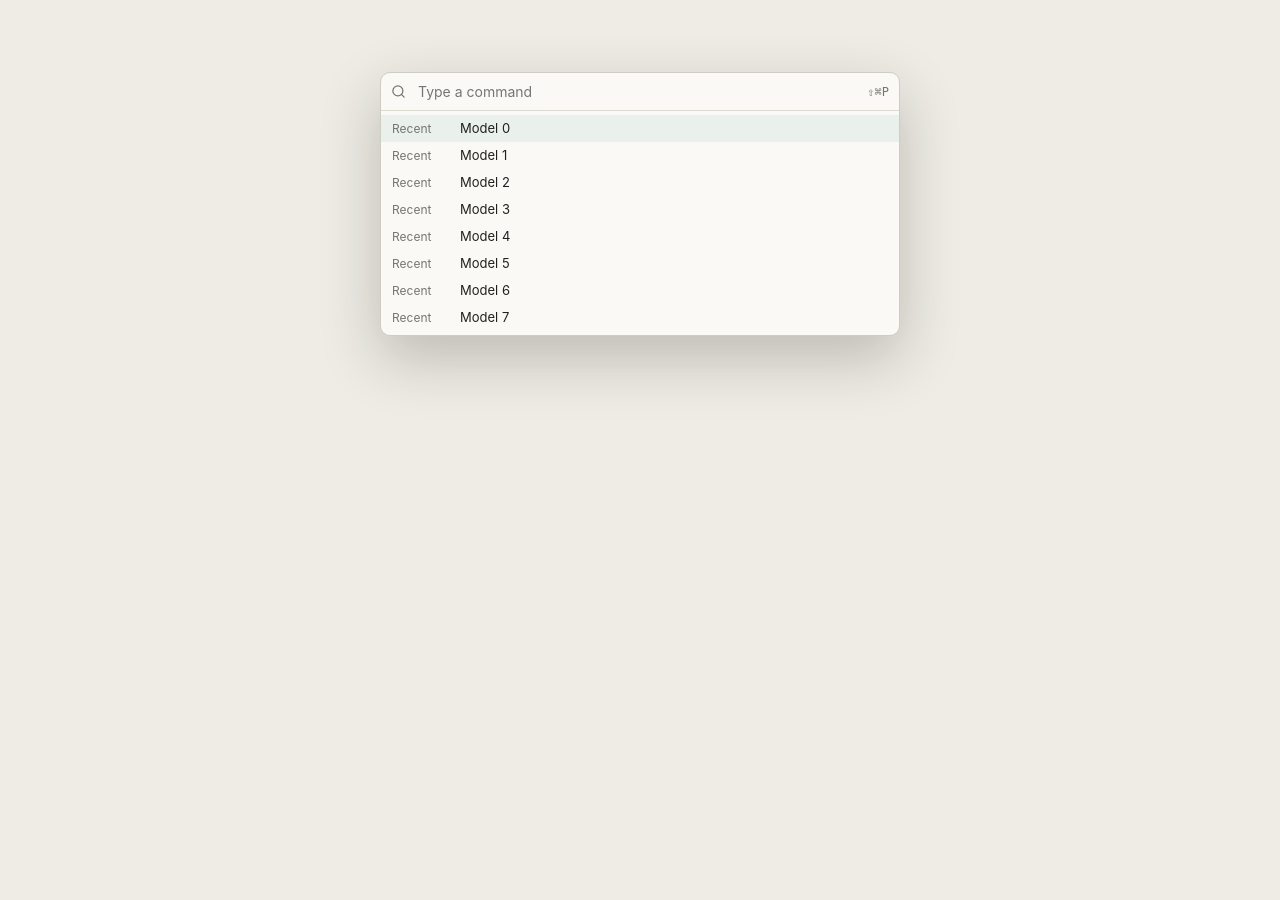
recent documents › finds a recent document by its path as well as its name
The width and height of the screenshot is (1280, 900).
Type "model-3.fw" into the field named "Search commands" at (638, 92), box left=416, top=73, right=860, bottom=110
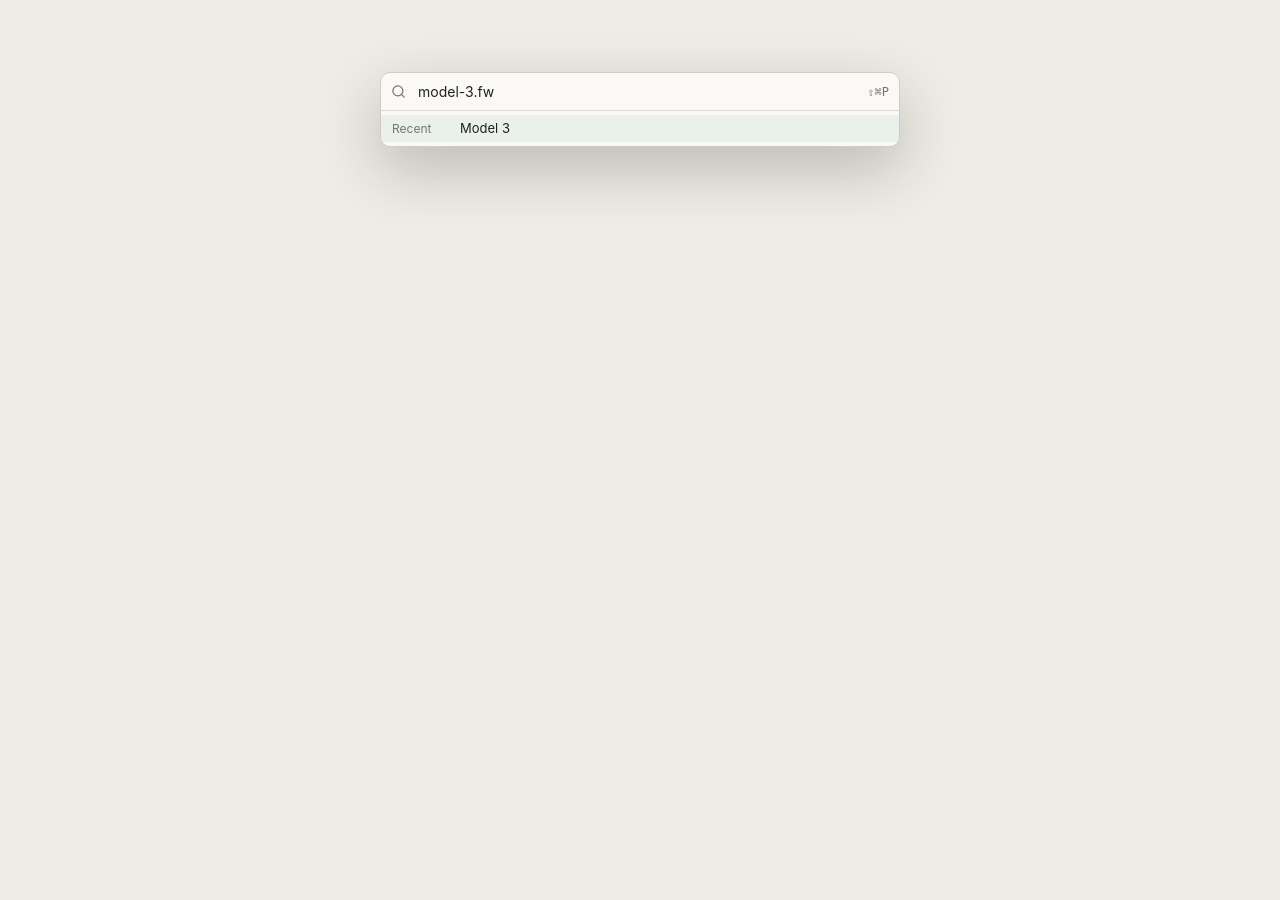
Check: the text "Model 3" is shown, box left=460, top=120, right=510, bottom=136
Check: the option "Model 4" is gone
